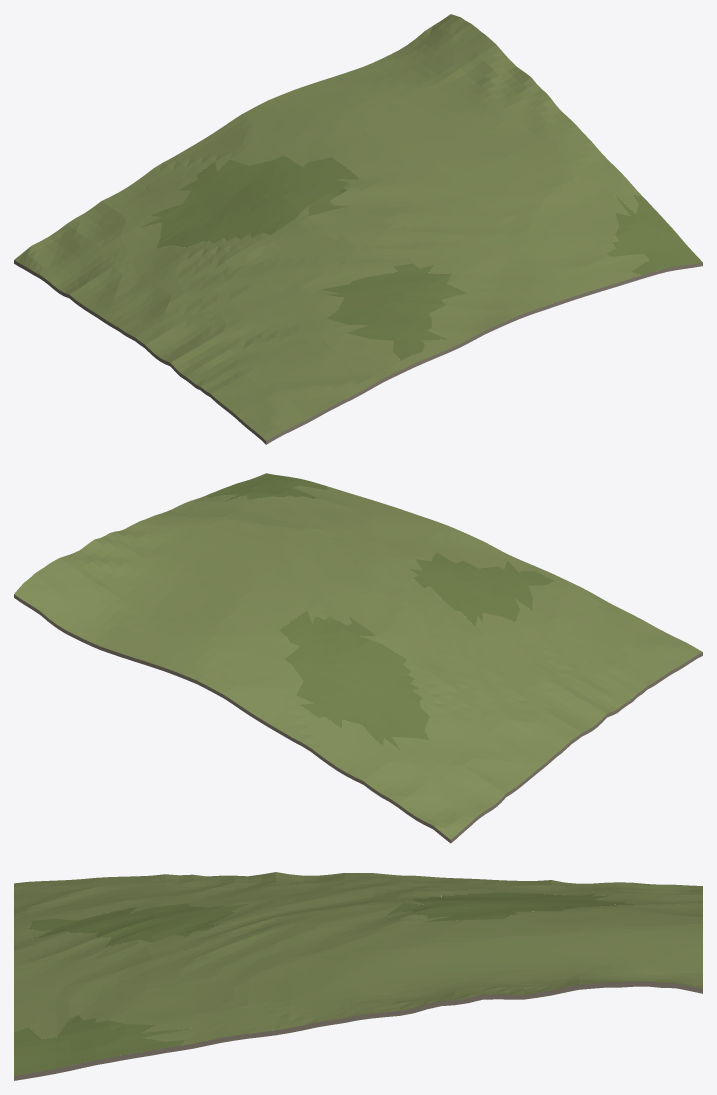
The model's file is parca_+3_-7-uzak.glb.
3 views of the same model, one above another, from view 1: azimuth 30°, elevation 25°; view 2: azimuth 150°, elevation 25°; view 3: azimuth 270°, elevation 25° (orthographic). The views are drawn at different scales.
Visible parts, largest first — view 1: parca_+3_-7_arazi_uzak; view 2: parca_+3_-7_arazi_uzak; view 3: parca_+3_-7_arazi_uzak.
Part boxes in pixels (x1,y1,x2,y2): parca_+3_-7_arazi_uzak: (14, 14, 702, 444); parca_+3_-7_arazi_uzak: (14, 473, 702, 843); parca_+3_-7_arazi_uzak: (14, 872, 702, 1080).
Bounding box in the file's own units: 1000 × 324 × 1000.
